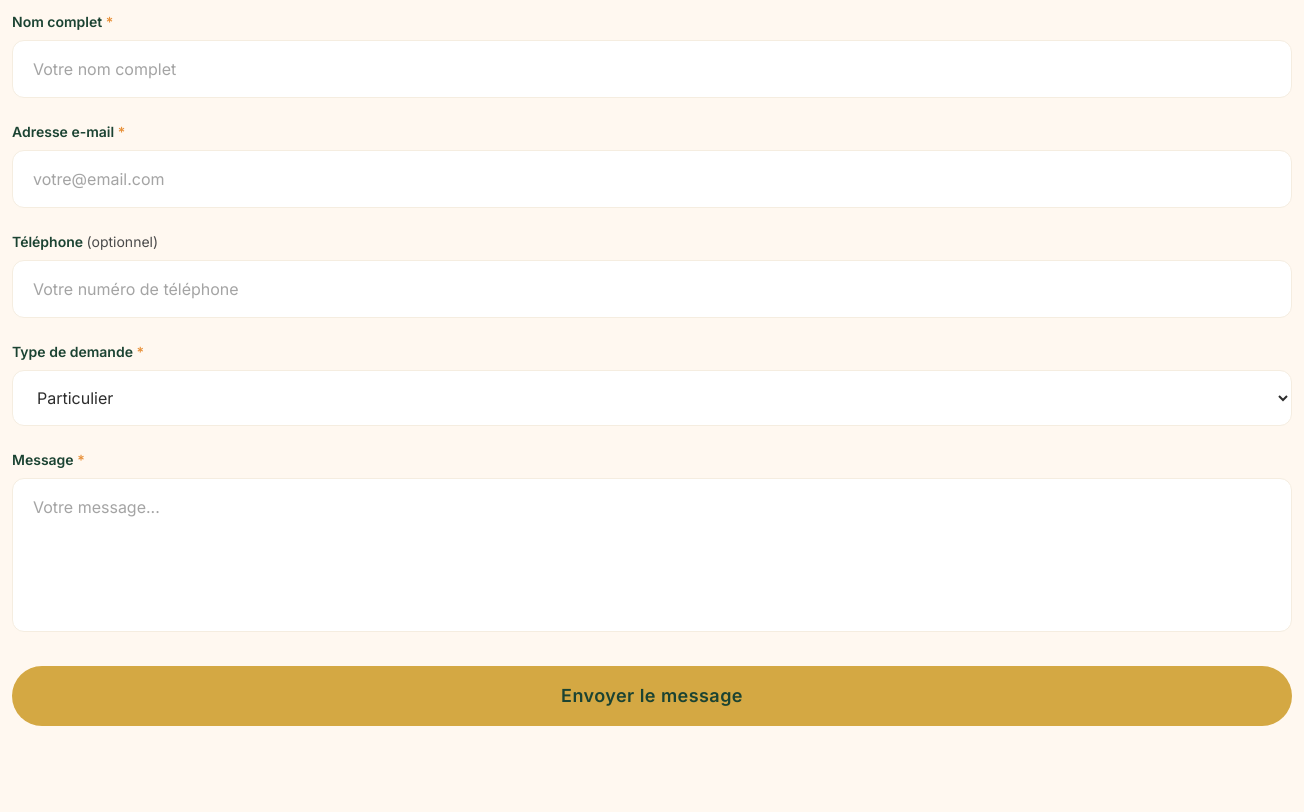
ContactForm › shows email format error for invalid email
Type "Jean Dupont" into the field labelled "Nom complet *" at {"x": 652, "y": 69}, box [12,40,1292,98]
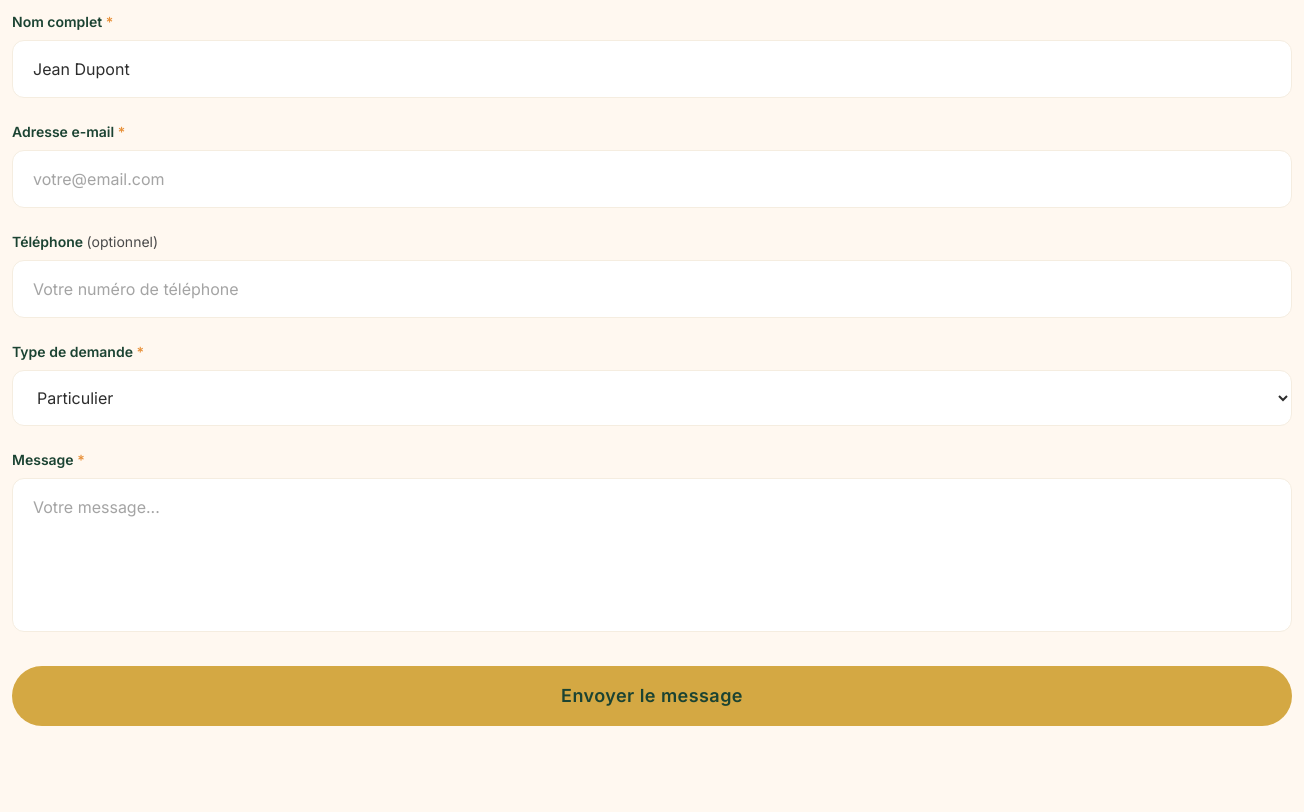
Type "invalid-email" into the field labelled "Adresse e-mail *" at {"x": 652, "y": 179}, box [12,150,1292,208]
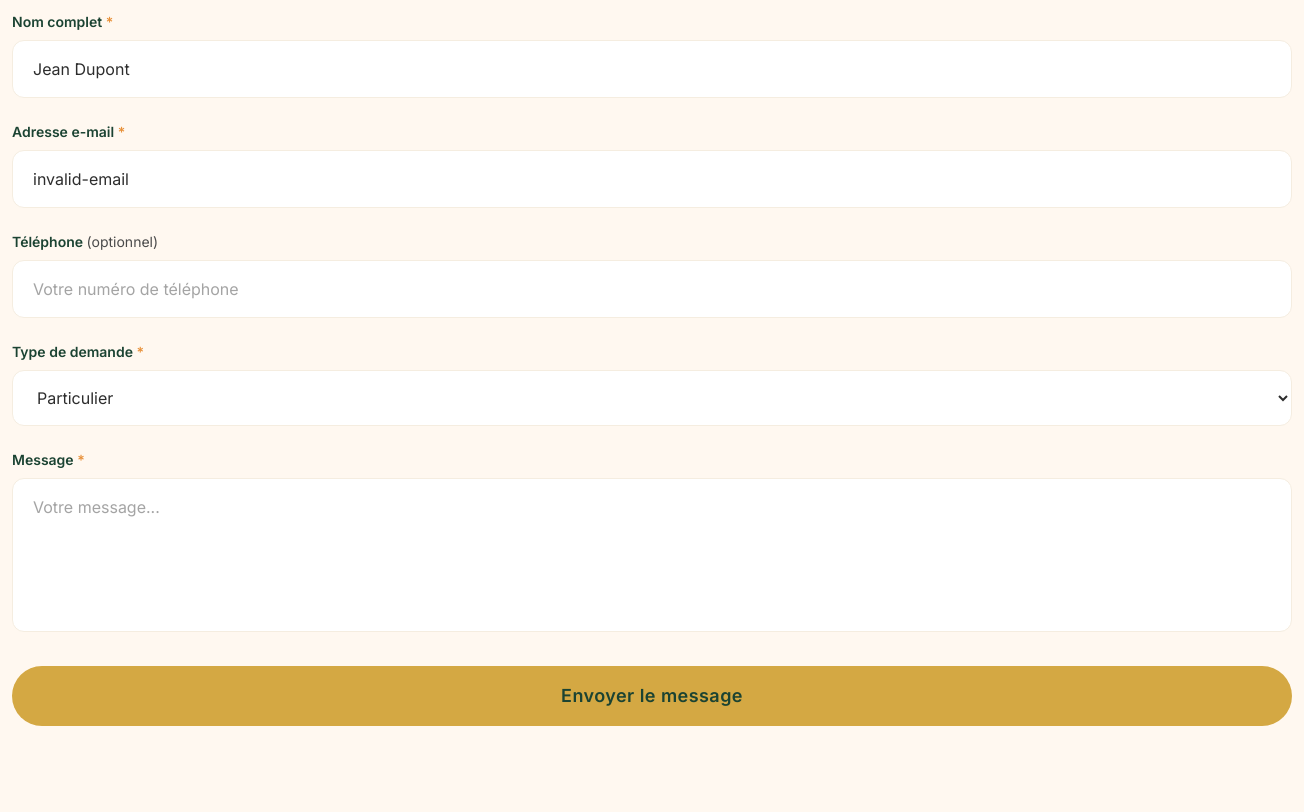
Type "Bonjour" into the text box labelled "Message *" at {"x": 652, "y": 555}, box [12,478,1292,632]
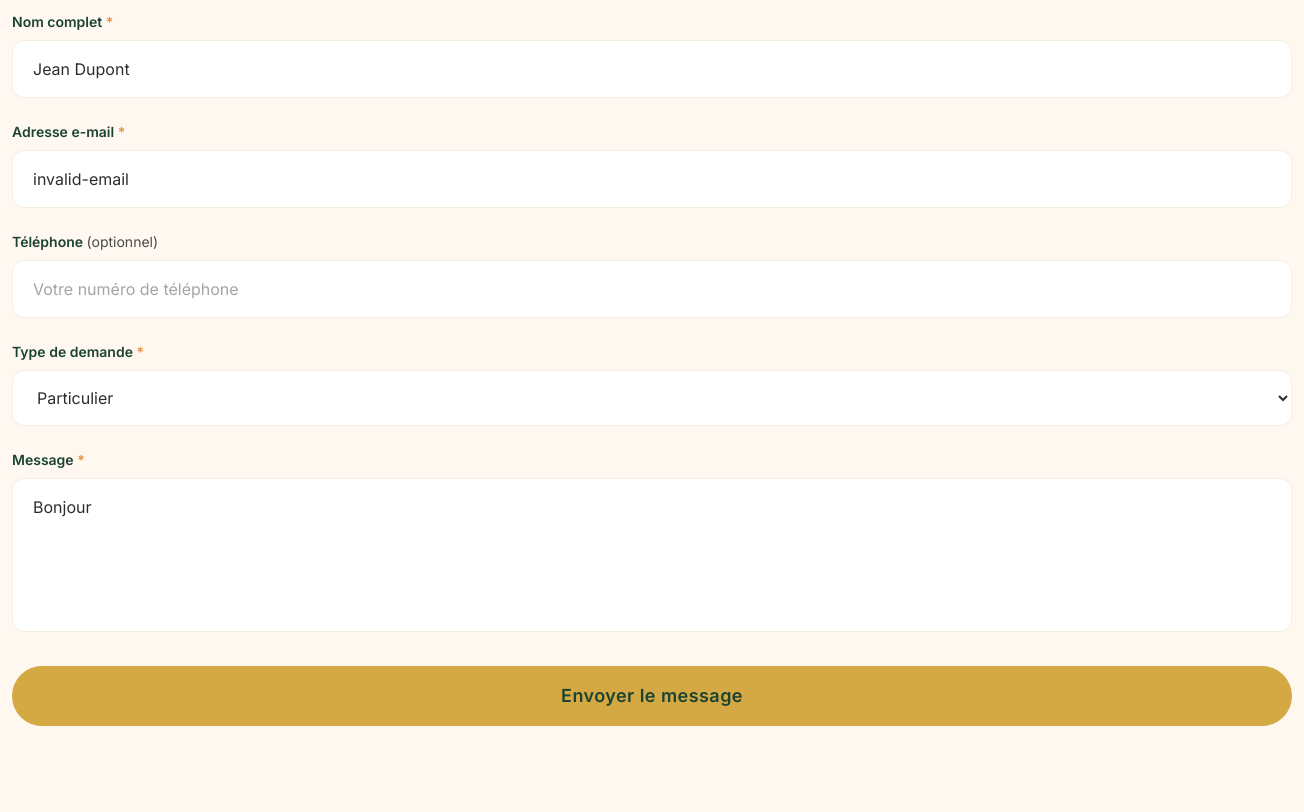
Click the button "Envoyer le message" at {"x": 652, "y": 696}, box [12,666,1292,726]
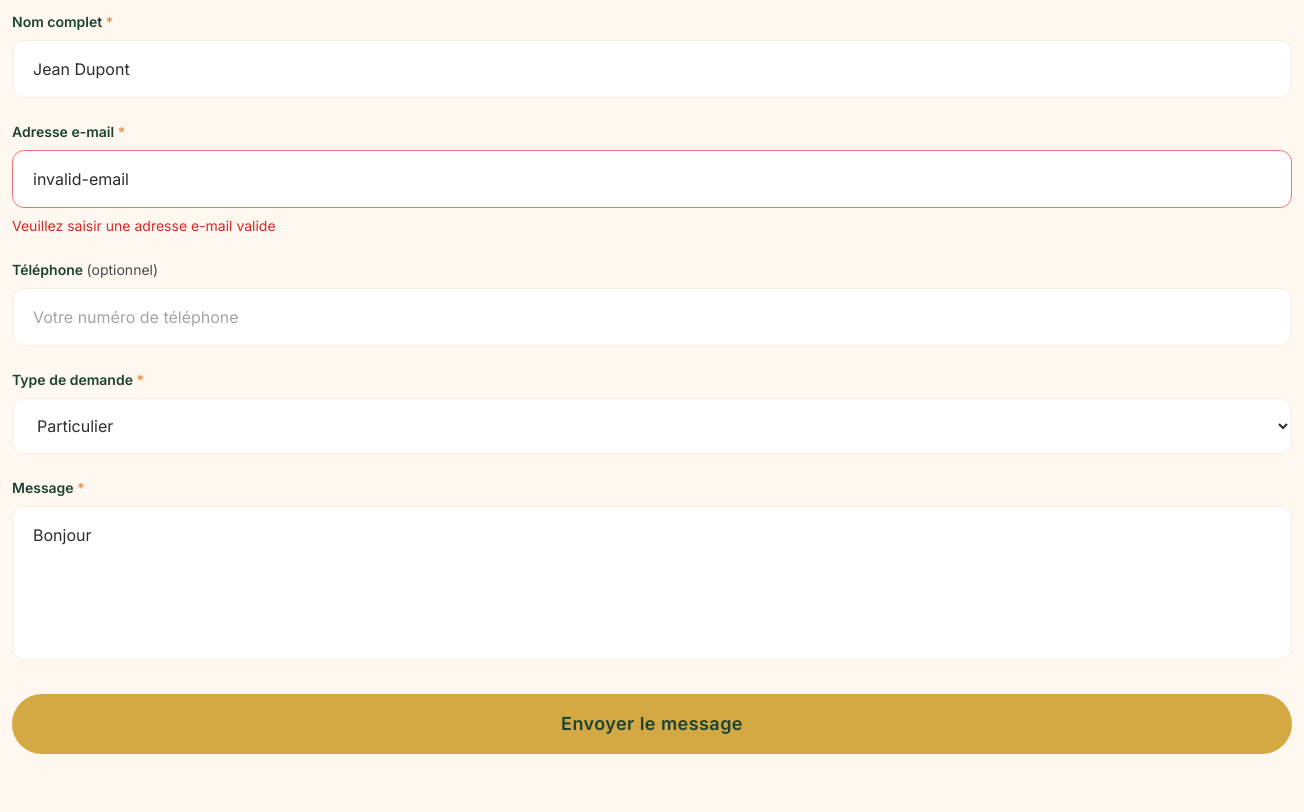
Now the text "Veuillez saisir une adresse e-mail valide" is shown, box [12,217,276,234]
